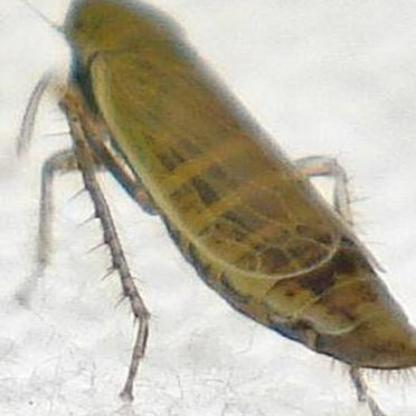green-leafhopper: (43, 3, 408, 372)
